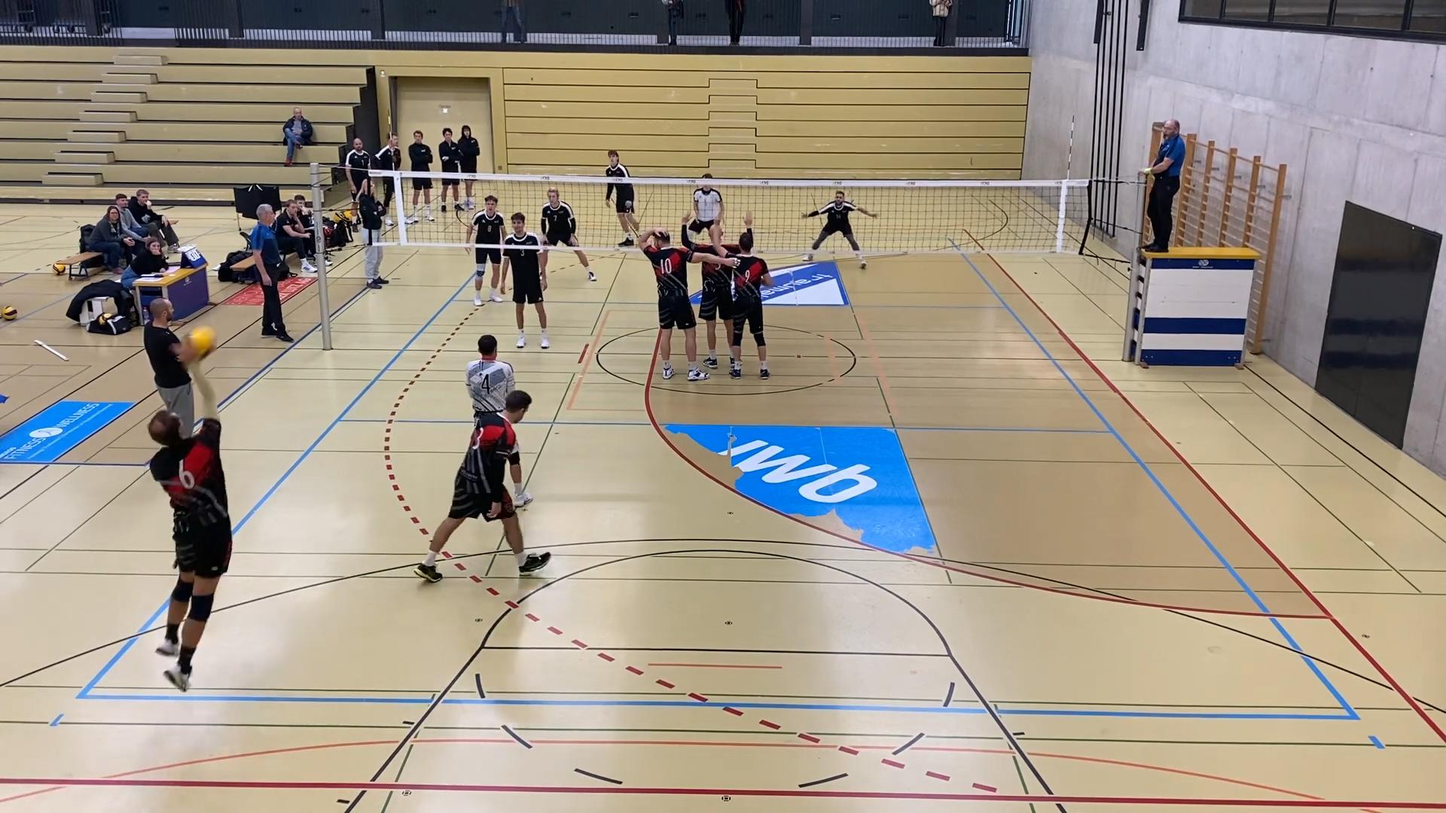battuta: (141, 348, 235, 693)
